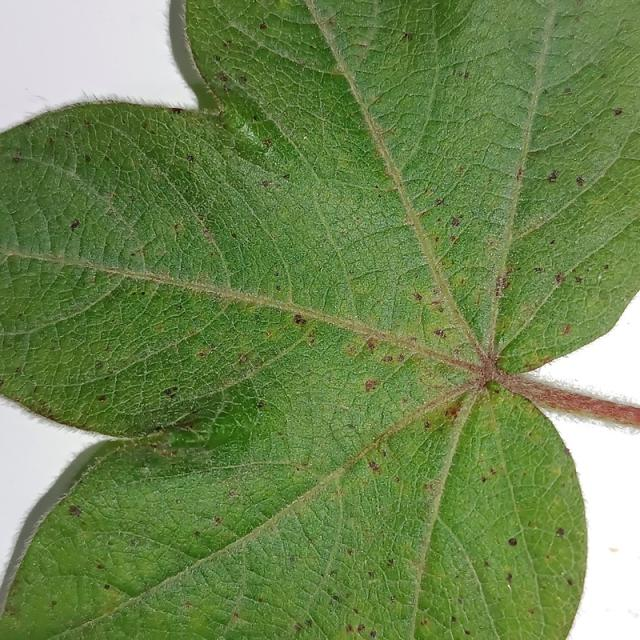Bacterial_Blight: (255, 64, 369, 168), (292, 1, 383, 97), (1, 282, 123, 340), (58, 440, 150, 500), (201, 458, 292, 517), (534, 378, 638, 424), (4, 246, 98, 273), (142, 402, 211, 436), (189, 457, 308, 475), (13, 396, 74, 427), (503, 352, 571, 379), (158, 422, 217, 453), (431, 207, 474, 240), (58, 495, 95, 532), (205, 78, 228, 123), (497, 525, 525, 560), (289, 301, 316, 336), (145, 436, 184, 460), (549, 263, 573, 295), (492, 349, 518, 377), (364, 367, 385, 400), (439, 401, 465, 426), (63, 207, 86, 235), (541, 164, 566, 189), (297, 610, 320, 637), (344, 620, 373, 637), (238, 121, 258, 142), (380, 351, 407, 365), (196, 344, 218, 360), (494, 274, 511, 294), (485, 380, 502, 394), (496, 331, 508, 349), (491, 353, 505, 368), (4, 604, 20, 616), (276, 0, 293, 11), (163, 386, 178, 398), (365, 338, 377, 351), (344, 344, 357, 356), (12, 149, 23, 163), (368, 460, 380, 472), (433, 328, 446, 339), (244, 301, 257, 312), (457, 69, 470, 79), (560, 324, 571, 335), (203, 228, 213, 240), (401, 32, 413, 42), (216, 72, 228, 82), (154, 246, 166, 256), (228, 488, 238, 499), (404, 214, 415, 224), (153, 424, 165, 433), (412, 292, 422, 302), (576, 176, 585, 187), (516, 167, 523, 180), (357, 41, 370, 48), (263, 138, 272, 148), (198, 349, 208, 358), (555, 528, 565, 537), (239, 355, 248, 364), (172, 107, 182, 115), (434, 198, 444, 206), (613, 108, 623, 116), (431, 300, 442, 307), (183, 601, 192, 609), (265, 330, 273, 339), (294, 624, 302, 633), (97, 395, 107, 402), (214, 516, 222, 524), (84, 155, 92, 163), (259, 22, 267, 30), (386, 559, 394, 567), (95, 361, 103, 369), (15, 366, 23, 374), (130, 538, 138, 546), (534, 267, 543, 274), (384, 355, 393, 362), (173, 224, 180, 232), (421, 619, 428, 627), (97, 563, 105, 570), (346, 625, 353, 633), (424, 421, 431, 429), (187, 155, 194, 163), (239, 76, 247, 83), (437, 305, 444, 313), (261, 180, 269, 187), (566, 578, 573, 586), (506, 573, 513, 581), (489, 468, 496, 475), (283, 173, 290, 180), (50, 600, 57, 607), (528, 608, 535, 615), (332, 595, 339, 602), (214, 55, 221, 62), (564, 87, 572, 93), (289, 555, 295, 563), (231, 232, 237, 239), (434, 236, 440, 243), (347, 549, 353, 556), (481, 476, 487, 483), (368, 571, 374, 578), (257, 402, 264, 408), (395, 476, 401, 483), (451, 616, 457, 623), (549, 239, 556, 245), (390, 595, 396, 602), (603, 264, 610, 270), (194, 530, 200, 537), (457, 598, 463, 605), (464, 629, 471, 635), (506, 583, 512, 590), (104, 584, 110, 590), (275, 285, 281, 291), (484, 561, 490, 567), (140, 290, 146, 296), (258, 597, 263, 603), (274, 271, 279, 277), (598, 274, 603, 280), (370, 636, 377, 640), (561, 571, 566, 576)
Cotton: (0, 0, 639, 639)
